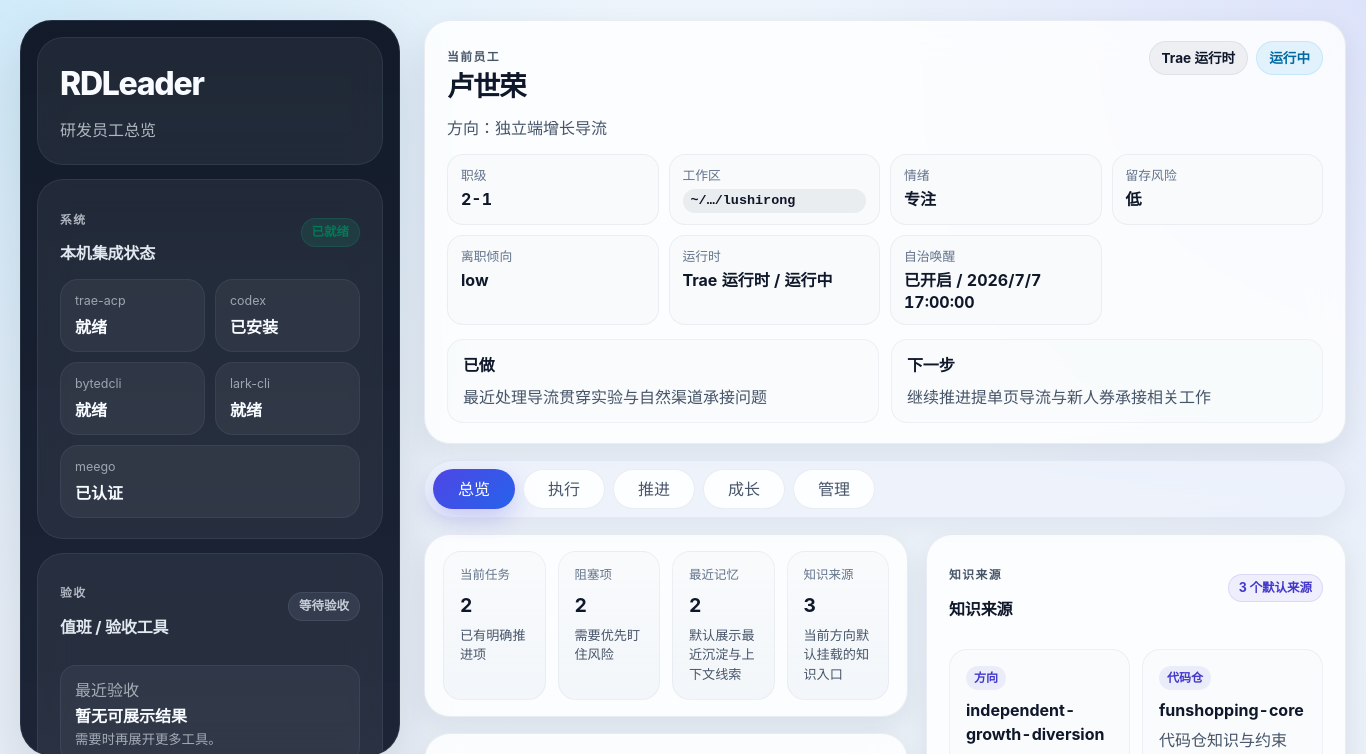
Test: App › shows approvalRequired hints in employee replies
Click the tab "推进" at [654, 489], box [613,469,695,509]
(page scrolled)
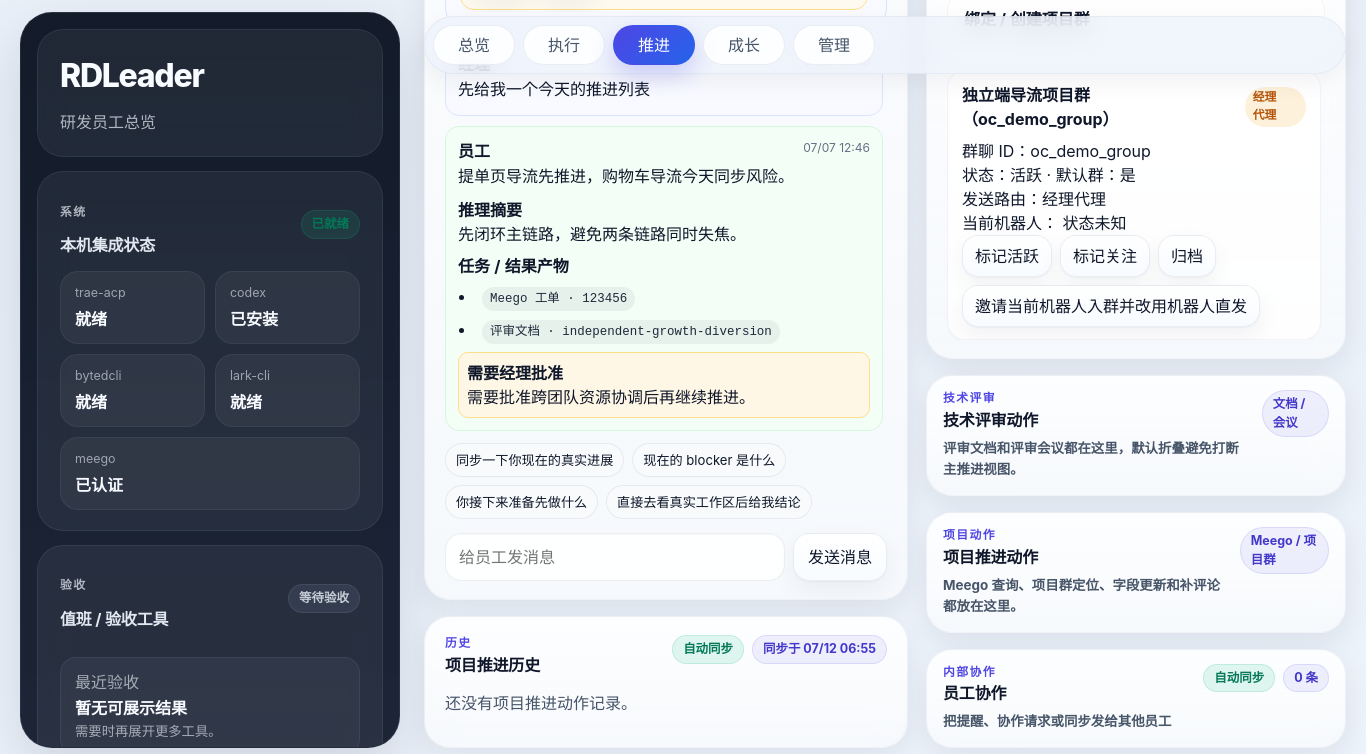
Expected: the text "需要经理批准" is shown, [467,363,563,383]
Expected: the text "需要批准跨团队资源协调后再继续推进。" is shown, [467,387,755,407]
